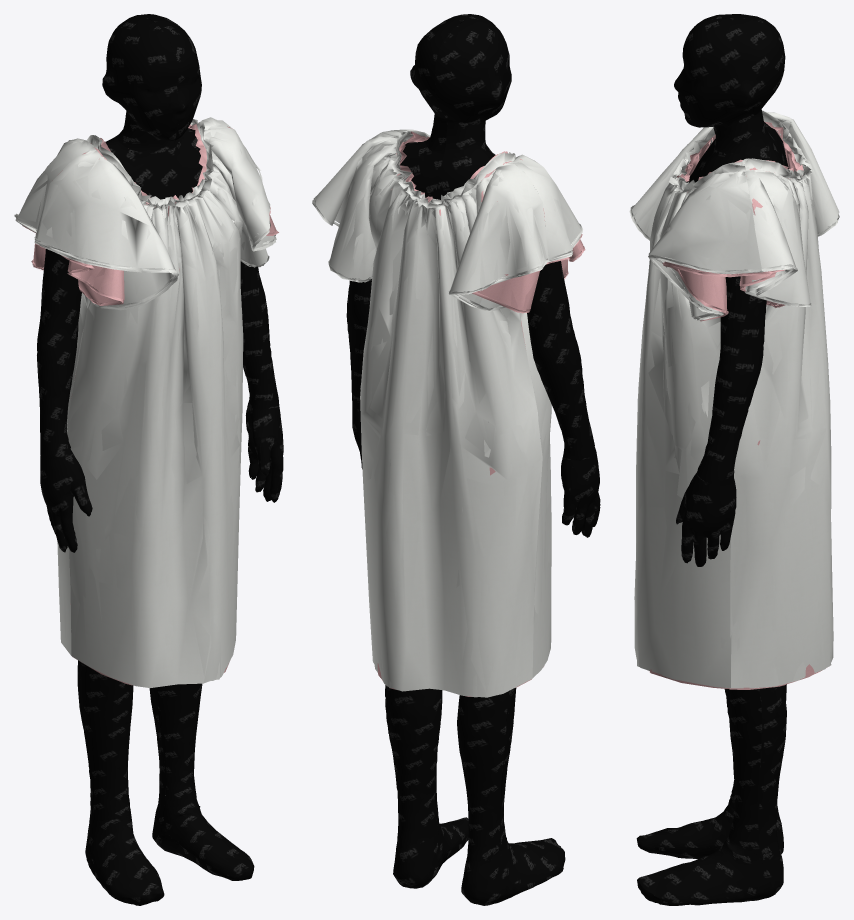
File: AR mannequin for Android-Lanvan dress.glb
3 views of the same model, side by side, from view 1: azimuth 30°, elevation 25°; view 2: azimuth 150°, elevation 25°; view 3: azimuth 270°, elevation 25° (orthographic).
Parts seen in each view (by area): view 1: Lanvan with women HD mannequin, Woman Bodysuit AR; view 2: Lanvan with women HD mannequin, Woman Bodysuit AR; view 3: Lanvan with women HD mannequin, Woman Bodysuit AR.
Part boxes in pixels (x1=…): Lanvan with women HD mannequin: x1=14, y1=117, x2=278, y2=687; Woman Bodysuit AR: x1=37, y1=14, x2=283, y2=905; Lanvan with women HD mannequin: x1=312, y1=129, x2=585, y2=697; Woman Bodysuit AR: x1=346, y1=14, x2=600, y2=905; Lanvan with women HD mannequin: x1=629, y1=110, x2=839, y2=689; Woman Bodysuit AR: x1=636, y1=14, x2=788, y2=905.
Size of the model in its own units: 0.5315 by 1.77 by 0.3931.
Materials: 3 (3 with a texture image).
